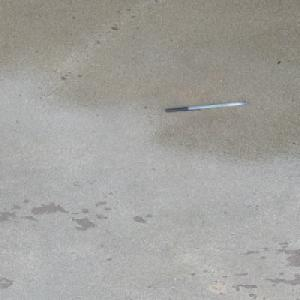Pen: (164, 100, 248, 112)
